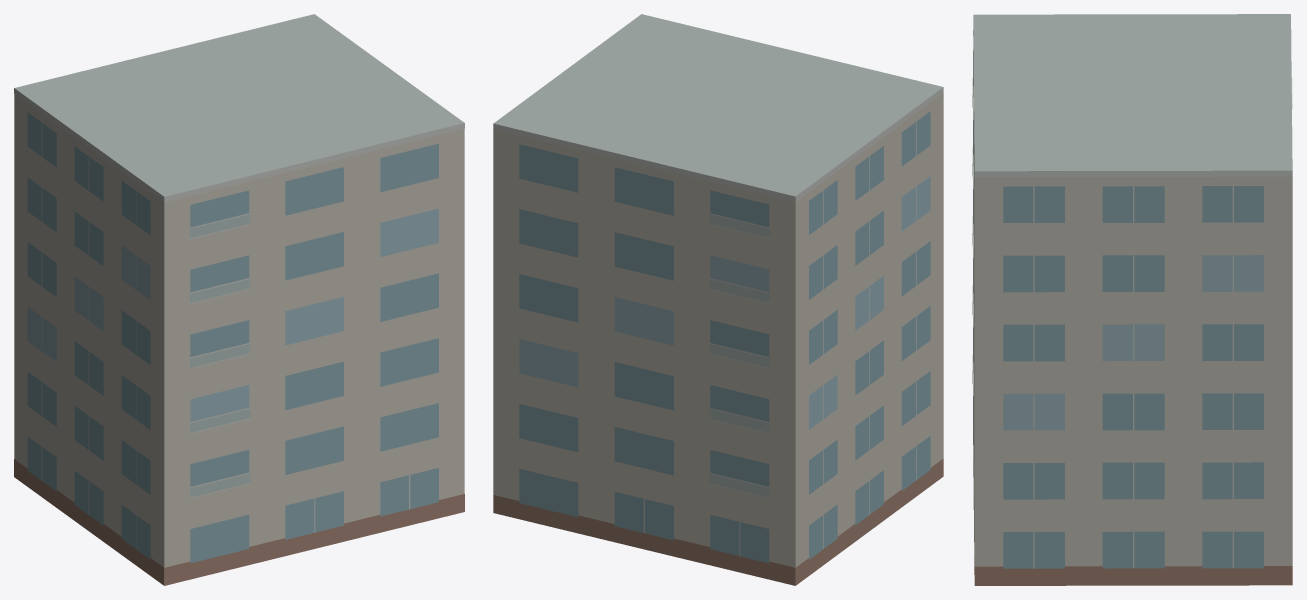
Rendered from survey-upis-32738092.glb.
3 views of the same model, side by side, from view 1: azimuth 30°, elevation 25°; view 2: azimuth 150°, elevation 25°; view 3: azimuth 270°, elevation 25° (orthographic). The views are drawn at different scales.
Parts seen in each view (by area): view 1: survey-upis-32738092.tmp; view 2: survey-upis-32738092.tmp; view 3: survey-upis-32738092.tmp.
Boxes of the visible parts, x1=… form: survey-upis-32738092.tmp: x1=14, y1=14, x2=464, y2=585; survey-upis-32738092.tmp: x1=493, y1=14, x2=943, y2=585; survey-upis-32738092.tmp: x1=972, y1=14, x2=1292, y2=585.
Size of the model in its own units: 13.65 by 16.78 by 11.76.
